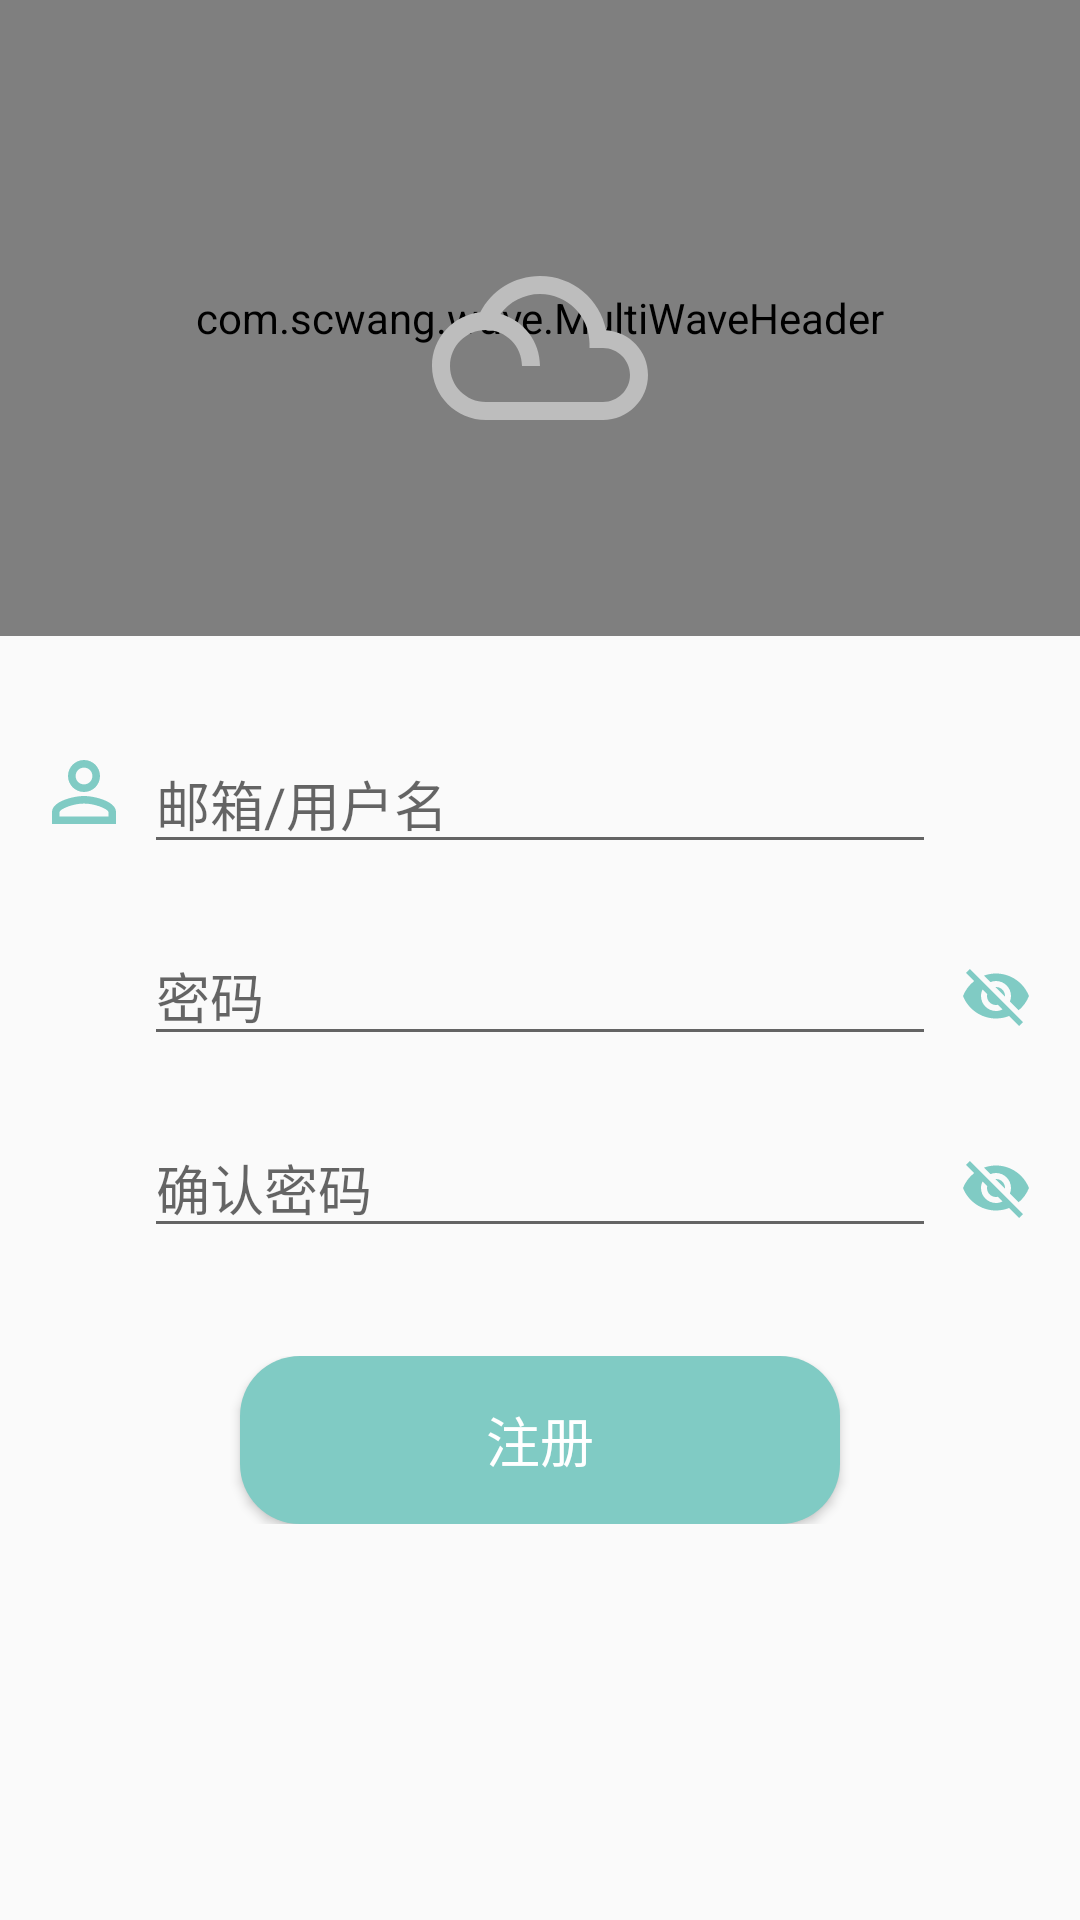

Where to tap for icons on this 1080px×1920px app screen, as (x=x, y=y):
filter drama: (x=540, y=348)
person: (x=84, y=792)
visibility off: (x=996, y=997), (x=996, y=1189)
